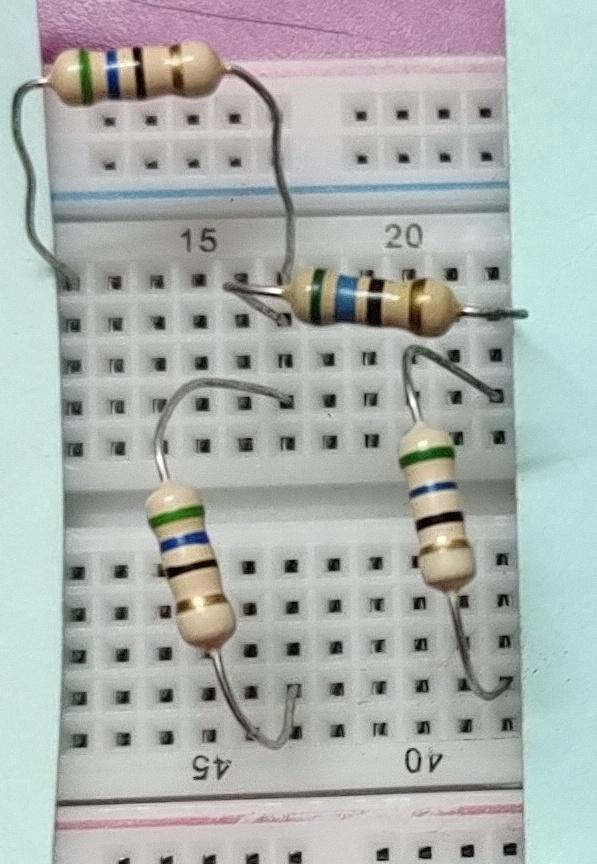resistor: (127, 465, 249, 662), (275, 249, 471, 356), (385, 410, 486, 593), (37, 34, 240, 113)
